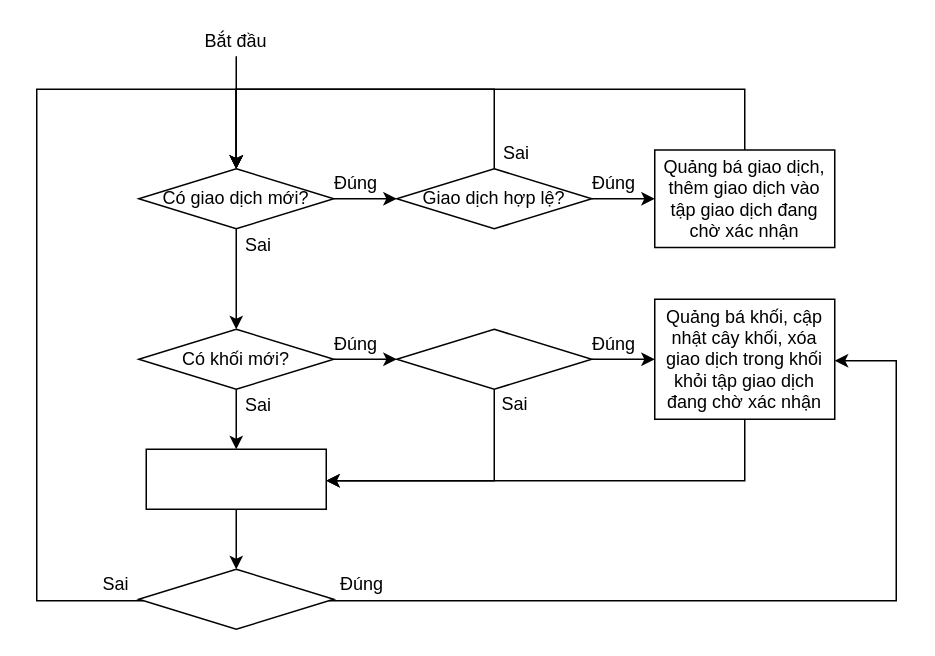
This 935x656 diagram has some shape labels left out. The shapes that lost their labels are listed below. From the top down, each one's box as (x1, y1, x2, y2) in pixels, then its label:
(395, 328, 592, 389): Khối hợp lệ?
(145, 448, 326, 509): Cập nhật rồi thử giải câu đố băm
(137, 568, 334, 629): Giải thành công?
